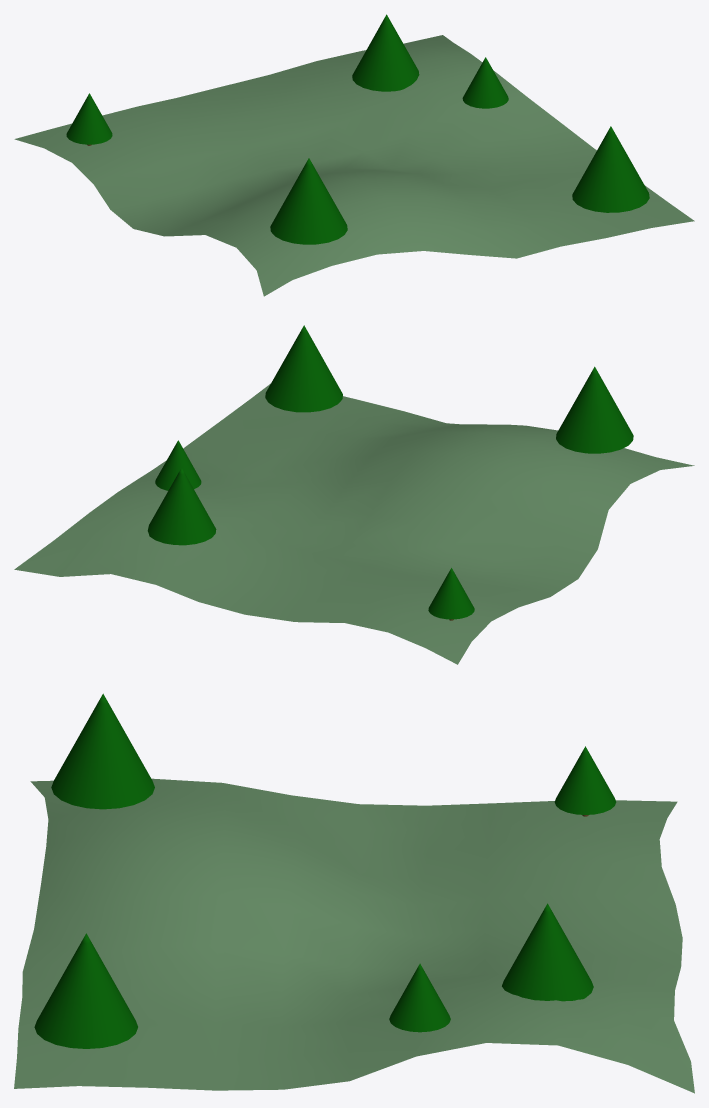
File: 3dmiljo.fbx
3 renders of one model, top to bottom at view 1: azimuth 30°, elevation 25°; view 2: azimuth 150°, elevation 25°; view 3: azimuth 270°, elevation 25°, orthographic. The views are drawn at different scales.
Parts seen in each view (by area): view 1: pPlane1, pasted__group1 (×2), pasted__pasted__group1, pCone2, group1; view 2: pPlane1, pasted__group1 (×2), pasted__pasted__group1, pCone2, group1; view 3: pPlane1, pasted__group1 (×2), pasted__pasted__group1, pCone2, group1.
Boxes of the visible parts, <box> form: pPlane1: <box>14,35,694,296</box>; pasted__group1 (×2): <box>66,93,649,212</box>; pasted__pasted__group1: <box>270,158,347,244</box>; pCone2: <box>352,14,419,91</box>; group1: <box>462,57,508,108</box>; pPlane1: <box>14,383,694,664</box>; pasted__group1 (×2): <box>265,325,474,620</box>; pasted__pasted__group1: <box>556,366,633,453</box>; pCone2: <box>147,468,216,545</box>; group1: <box>155,440,201,490</box>; pPlane1: <box>14,778,694,1093</box>; pasted__group1 (×2): <box>34,746,616,1048</box>; pasted__pasted__group1: <box>51,693,154,809</box>; pCone2: <box>502,903,593,1001</box>; group1: <box>389,963,450,1032</box>.
Size of the model in its own units: 97.67 by 27.14 by 99.24.
